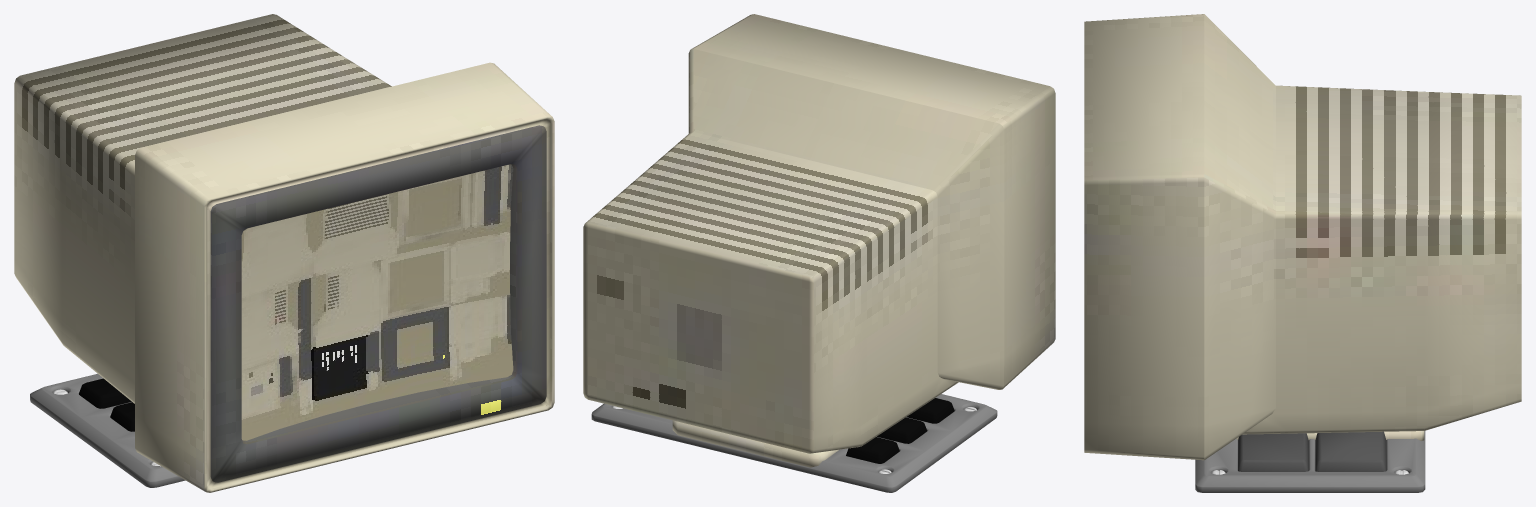
Rendered from monitor.glb.
3 views of the same model, side by side, from view 1: azimuth 30°, elevation 25°; view 2: azimuth 150°, elevation 25°; view 3: azimuth 270°, elevation 25° (orthographic). The views are drawn at different scales.
Visible parts, largest first — view 1: monitor, screen, base, key.008; view 2: monitor, base, key.008, key.007, key; view 3: monitor, base, key.013, key.012.
Part boxes in pixels (box(x1,y1,x2,y2)): monitor: box(14, 14, 554, 492); screen: box(241, 164, 513, 440); base: box(30, 373, 185, 487); key.008: box(79, 378, 131, 408); monitor: box(583, 14, 1055, 467); base: box(591, 394, 997, 492); key.008: box(846, 437, 899, 463); key.007: box(877, 417, 927, 443); key: box(906, 398, 954, 423); monitor: box(1084, 14, 1521, 460); base: box(1195, 431, 1425, 492); key.013: box(1315, 431, 1386, 471); key.012: box(1238, 433, 1308, 471).
Bounding box in the file's own units: 0.1575 × 0.1415 × 0.1762.
Materials: 5 (1 with a texture image).
